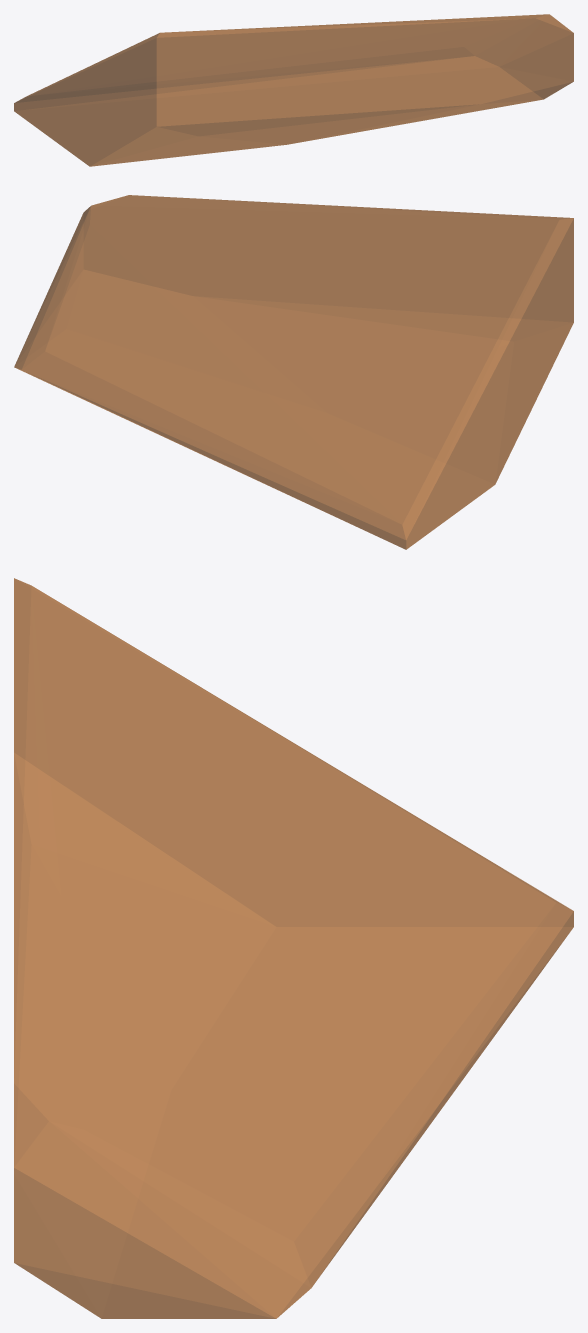
3 views of the same model, one above another, from view 1: azimuth 30°, elevation 25°; view 2: azimuth 150°, elevation 25°; view 3: azimuth 270°, elevation 25° (orthographic). The views are drawn at different scales.
Visible parts, largest first — view 1: Shape_IndexedFaceSet.023_Shape_IndexedFaceSet.9026; view 2: Shape_IndexedFaceSet.023_Shape_IndexedFaceSet.9026; view 3: Shape_IndexedFaceSet.023_Shape_IndexedFaceSet.9026.
Boxes of the visible parts, left/top/right/bottom form: Shape_IndexedFaceSet.023_Shape_IndexedFaceSet.9026: left=14, top=14, right=573, bottom=166; Shape_IndexedFaceSet.023_Shape_IndexedFaceSet.9026: left=14, top=195, right=573, bottom=549; Shape_IndexedFaceSet.023_Shape_IndexedFaceSet.9026: left=14, top=578, right=573, bottom=1318.
Size of the model in its own units: 0.0215 by 0.00877 by 0.0128.
